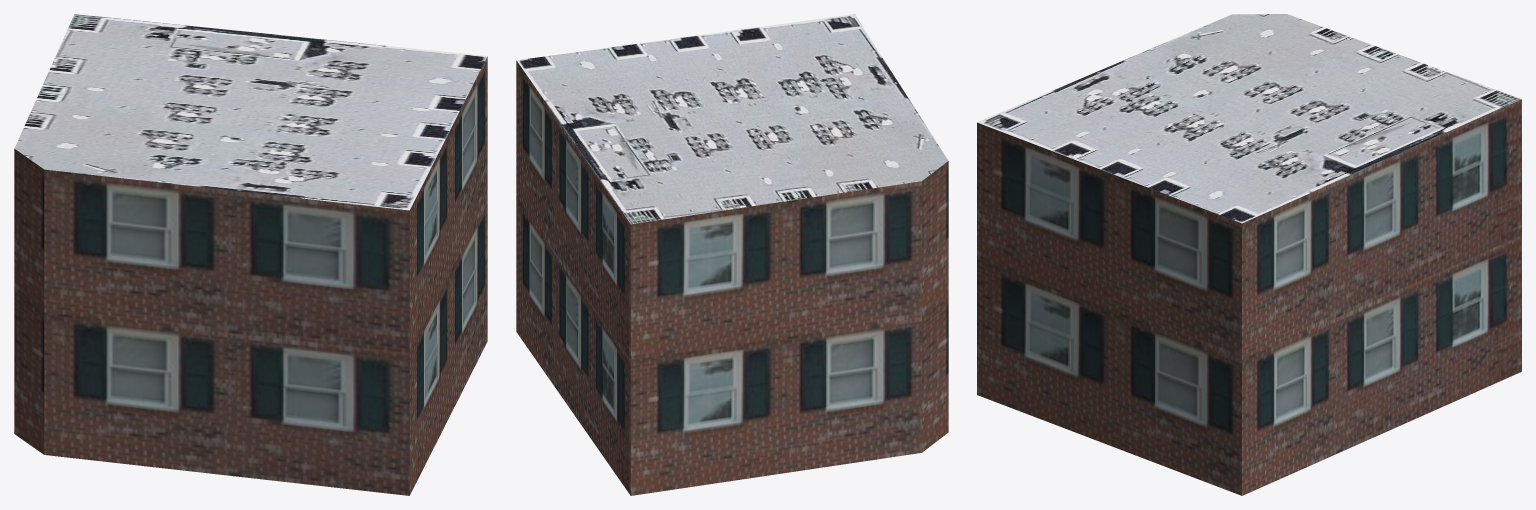
Rendered from ResTex__1705.fbx.
3 renders of one model, left to right at view 1: azimuth 30°, elevation 25°; view 2: azimuth 150°, elevation 25°; view 3: azimuth 270°, elevation 25°, orthographic. The views are drawn at different scales.
Parts seen in each view (by area): view 1: CityEngineMaterial_14_m, CityEngineMaterial_4_m; view 2: CityEngineMaterial_14_m, CityEngineMaterial_4_m; view 3: CityEngineMaterial_14_m, CityEngineMaterial_4_m.
Boxes of the visible parts, x1,y1,x2,y2 form: CityEngineMaterial_14_m: [14, 56, 487, 495]; CityEngineMaterial_4_m: [14, 14, 487, 210]; CityEngineMaterial_14_m: [516, 60, 948, 495]; CityEngineMaterial_4_m: [516, 14, 948, 224]; CityEngineMaterial_14_m: [977, 99, 1521, 495]; CityEngineMaterial_4_m: [977, 14, 1521, 223].
Bounding box in the file's own units: 9.89 × 6 × 10.87.
2 materials, 2 textured.
